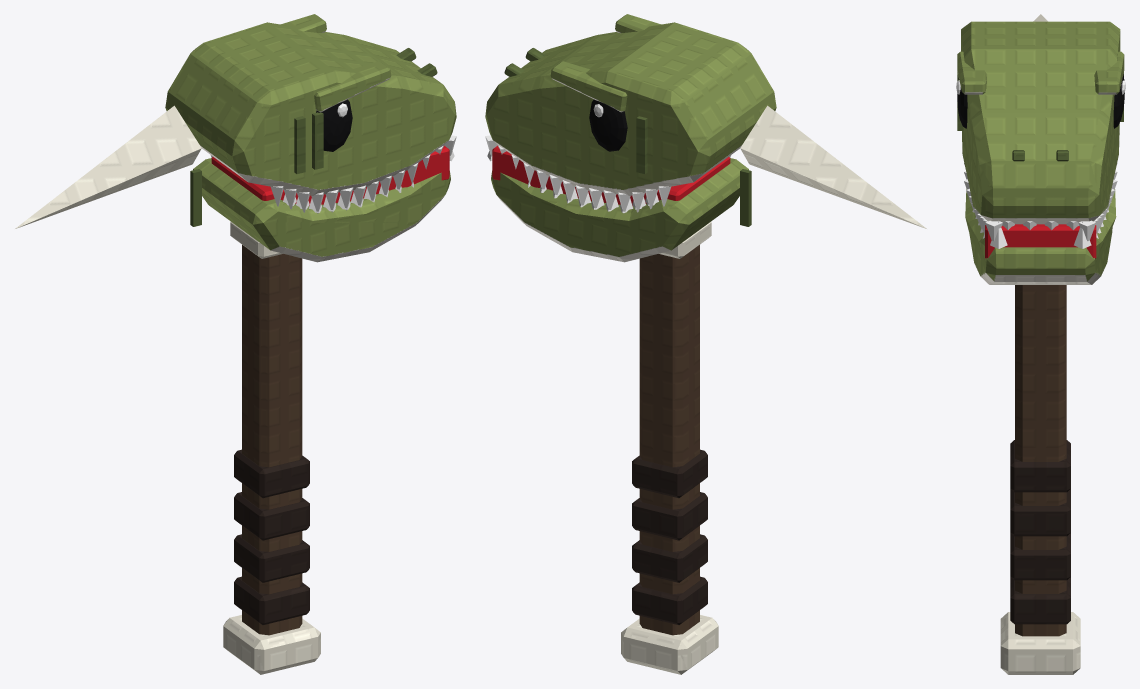
File: outil_23_pioche_t_rex.glb
3 views of the same model, side by side, from view 1: azimuth 30°, elevation 25°; view 2: azimuth 150°, elevation 25°; view 3: azimuth 270°, elevation 25° (orthographic). The views are drawn at different scales.
Parts seen in each view (by area): view 1: outil_23_pioche_t_rex; view 2: outil_23_pioche_t_rex; view 3: outil_23_pioche_t_rex.
Boxes of the visible parts, x1,y1,x2,y2 form: outil_23_pioche_t_rex: (15,14,456,674); outil_23_pioche_t_rex: (485,14,926,674); outil_23_pioche_t_rex: (956,14,1125,674).
Size of the model in its own units: 3.33 by 4.56 by 1.12.
Materials: 1 (1 with a texture image).
